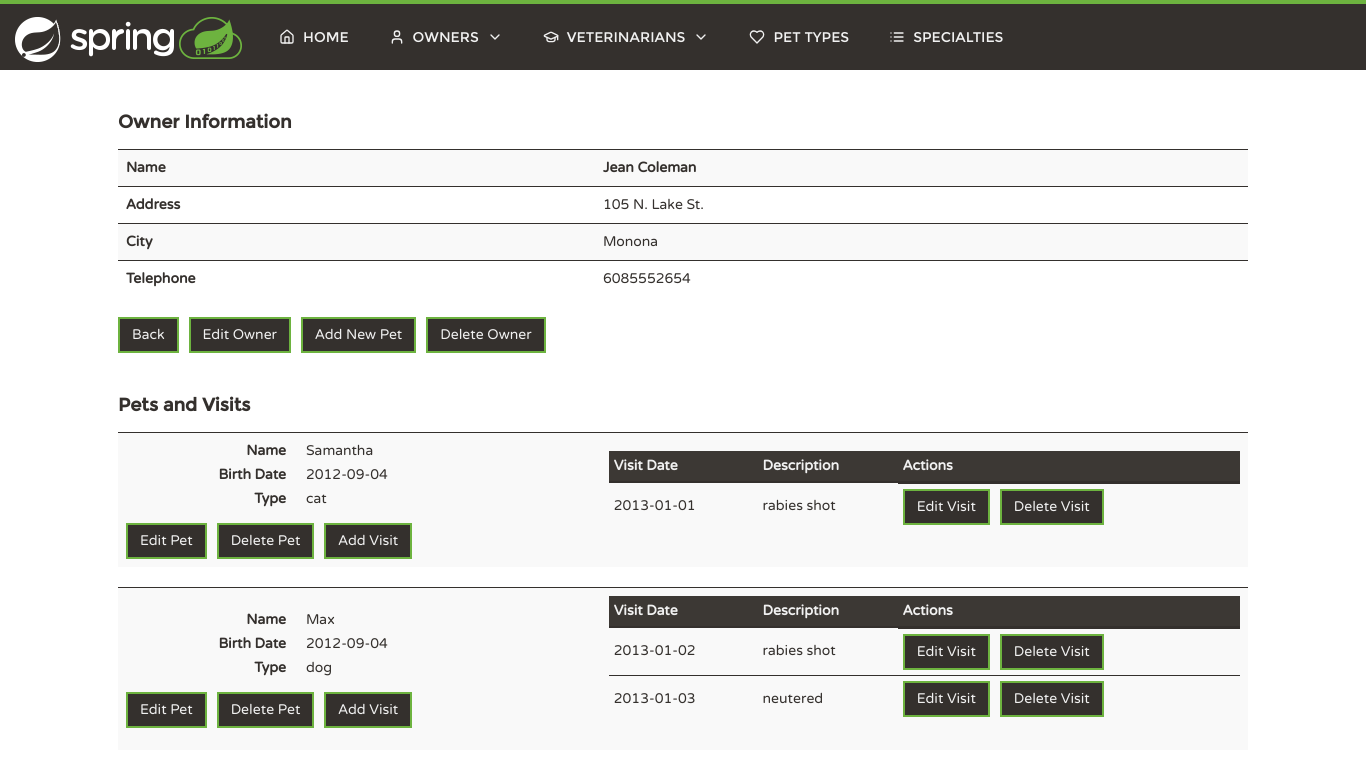
Test: OwnerDetailPage › shows the delete error in an alert when deleting a pet fails
Expected: the text "Samantha" is shown, [306,443,373,459]
Click the button "Delete Pet" below "cat".
click(266, 541)  # box [217,523,314,559]
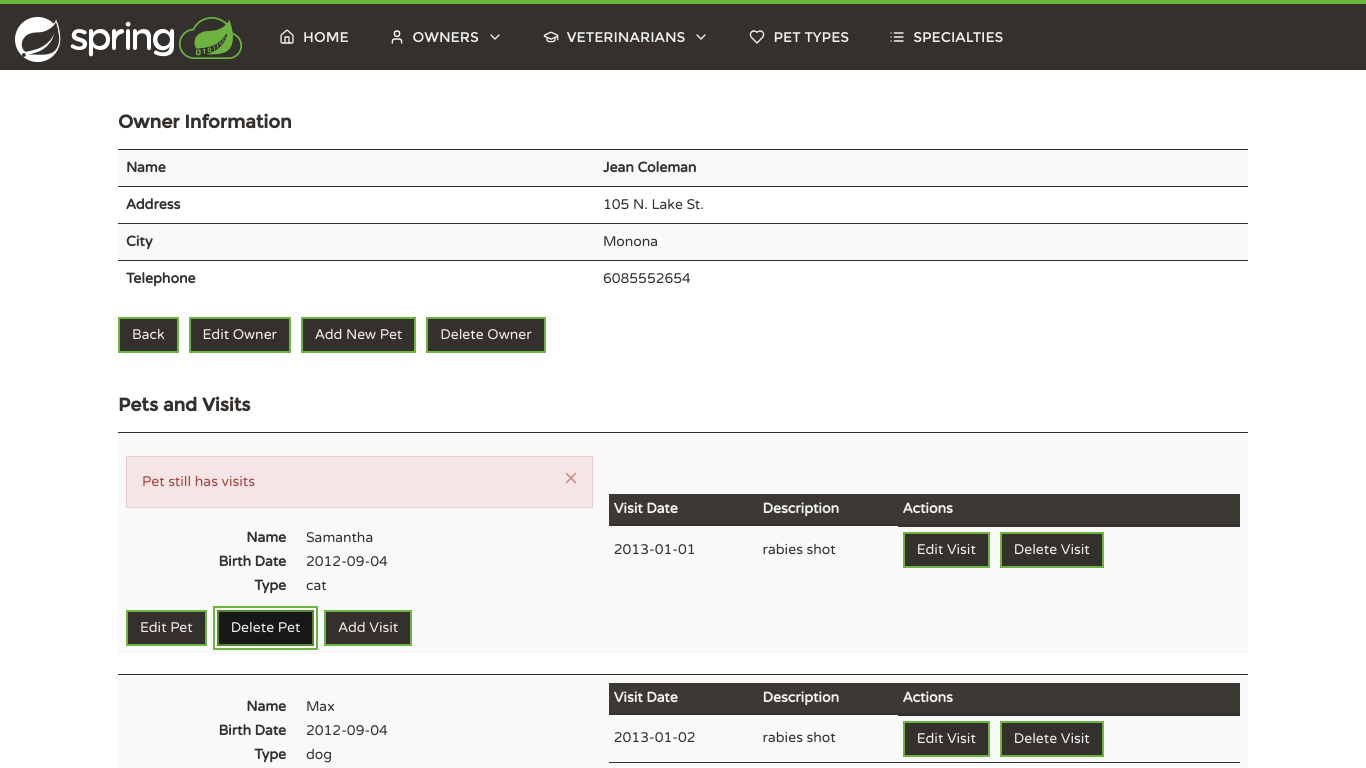
Expected: the text "Samantha" is shown, [306,530,373,546]
Expected: the message reads "Pet still has visits", [142,474,255,490]
